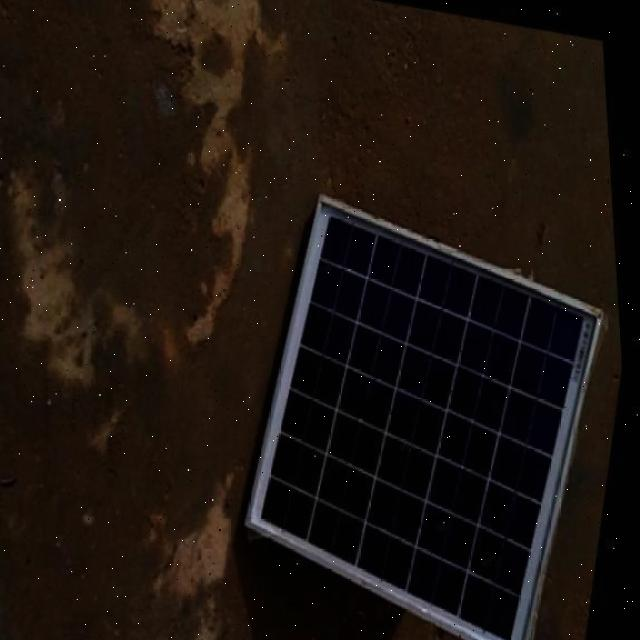Normal Solar Panel: (214, 188, 638, 640)
